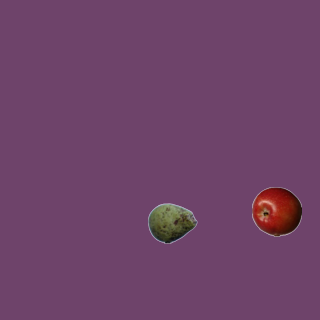Apple Braeburn: (251, 186, 301, 236)
Pear Stone: (147, 198, 197, 248)
